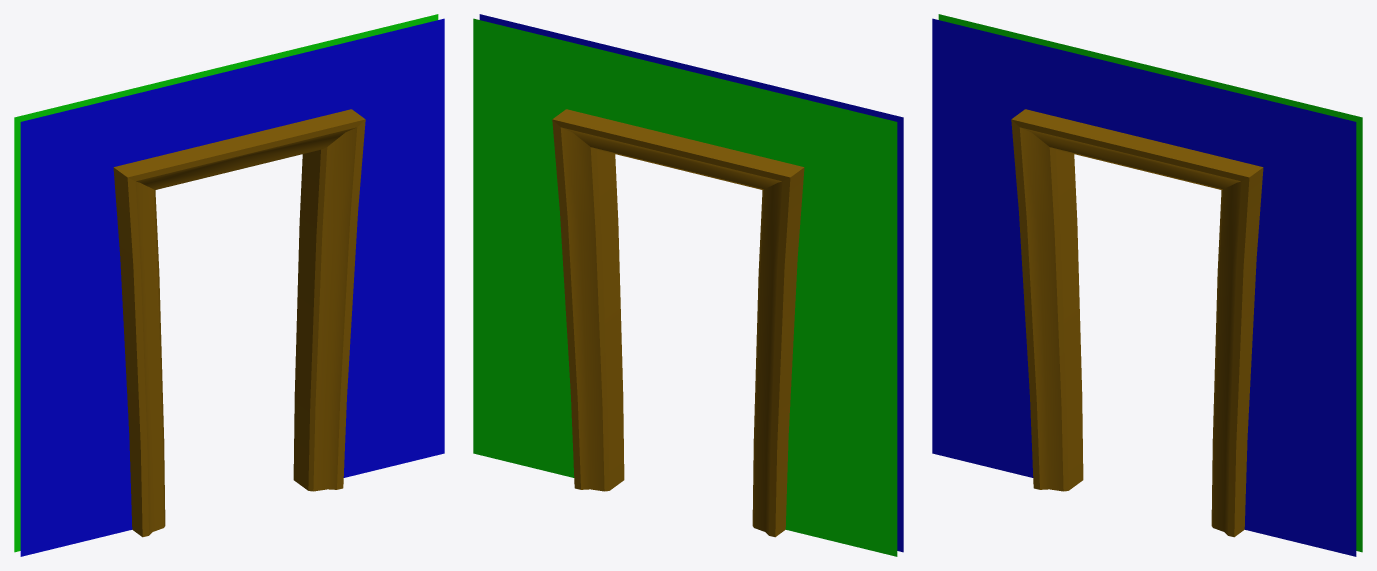
The model's file is paredpuerta.fbx.
3 renders of one model, left to right at view 1: azimuth 30°, elevation 25°; view 2: azimuth 150°, elevation 25°; view 3: azimuth 330°, elevation 25°, orthographic.
Parts seen in each view (by area): view 1: paredpuerta; view 2: paredpuerta; view 3: paredpuerta.
Boxes of the visible parts, left/top/right/bottom form: paredpuerta: left=14, top=14, right=444, bottom=556; paredpuerta: left=473, top=14, right=903, bottom=556; paredpuerta: left=932, top=14, right=1362, bottom=556.
Size of the model in its own units: 265 by 260 by 37.09.
